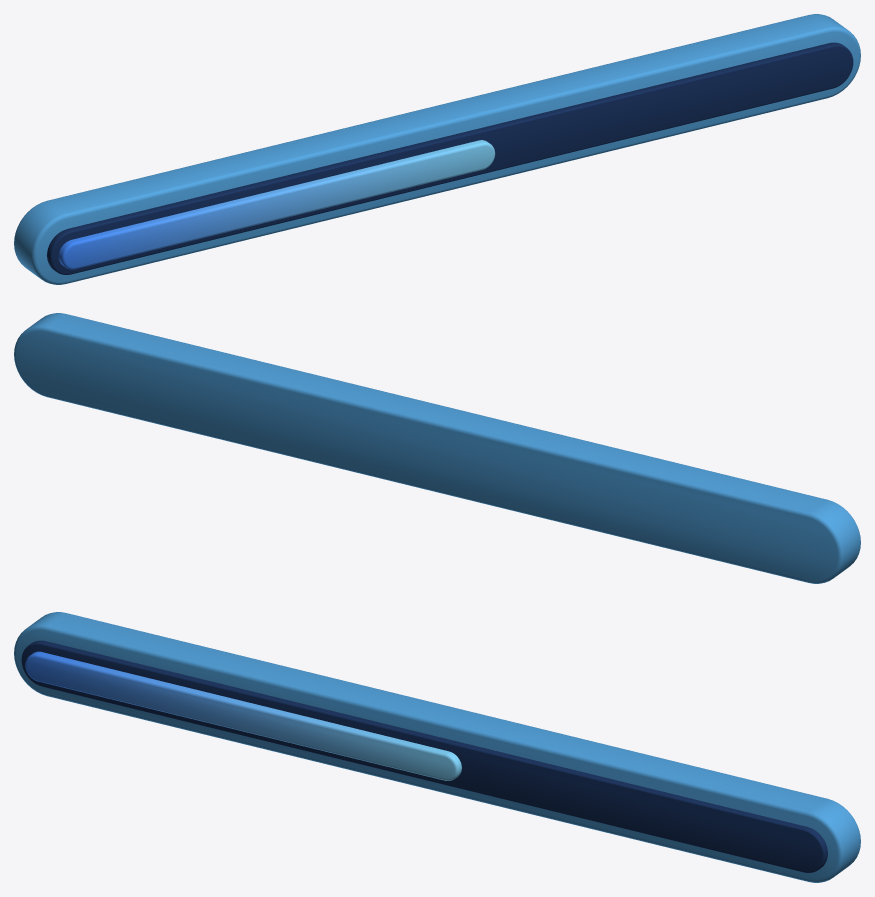
File: progreso-oscuro.glb
3 renders of one model, top to bottom at view 1: azimuth 30°, elevation 25°; view 2: azimuth 150°, elevation 25°; view 3: azimuth 330°, elevation 25°, orthographic.
Visible parts, largest first — view 1: borde, canal, relleno; view 2: borde; view 3: borde, canal, relleno.
Part boxes in pixels (box(x1,y1,x2,y2)): borde: box(14, 14, 860, 284); canal: box(47, 42, 853, 274); relleno: box(58, 140, 495, 269); borde: box(14, 313, 860, 583); borde: box(14, 612, 860, 882); canal: box(21, 640, 827, 872); relleno: box(25, 651, 461, 780).
Size of the model in its own units: 3.2 by 0.26 by 0.2.
